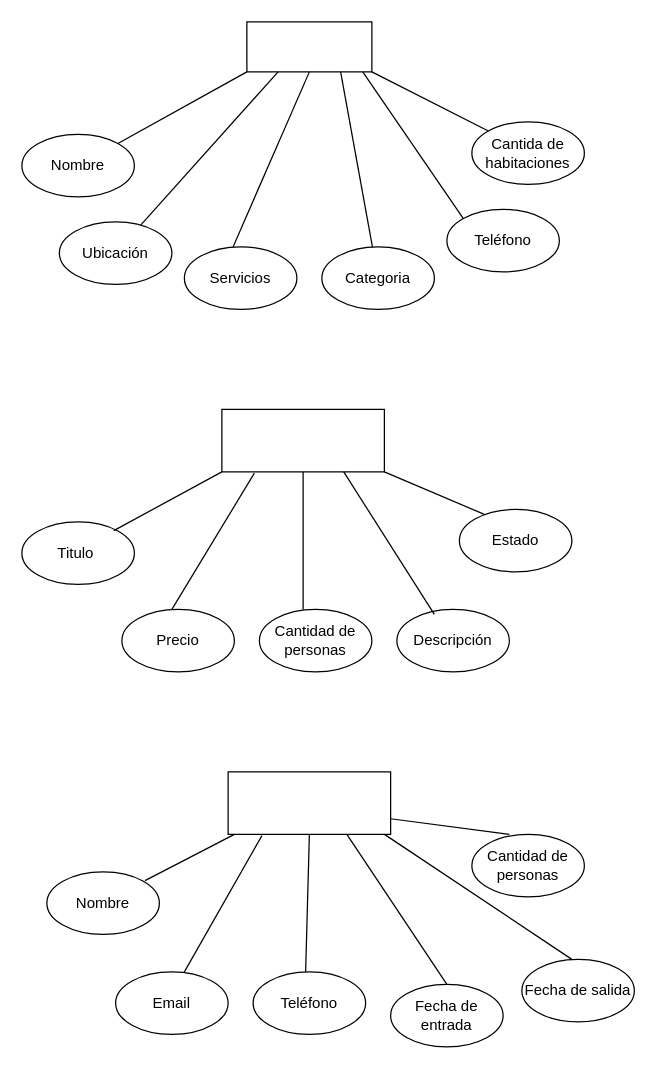
Image size: 656x1069. Some labels were removed from this diagram. Each missing label, with the box of its shape:
HABITACIONES: (221, 408, 384, 472)
HOTEL: (246, 21, 372, 72)
RESERVA: (227, 771, 391, 834)
